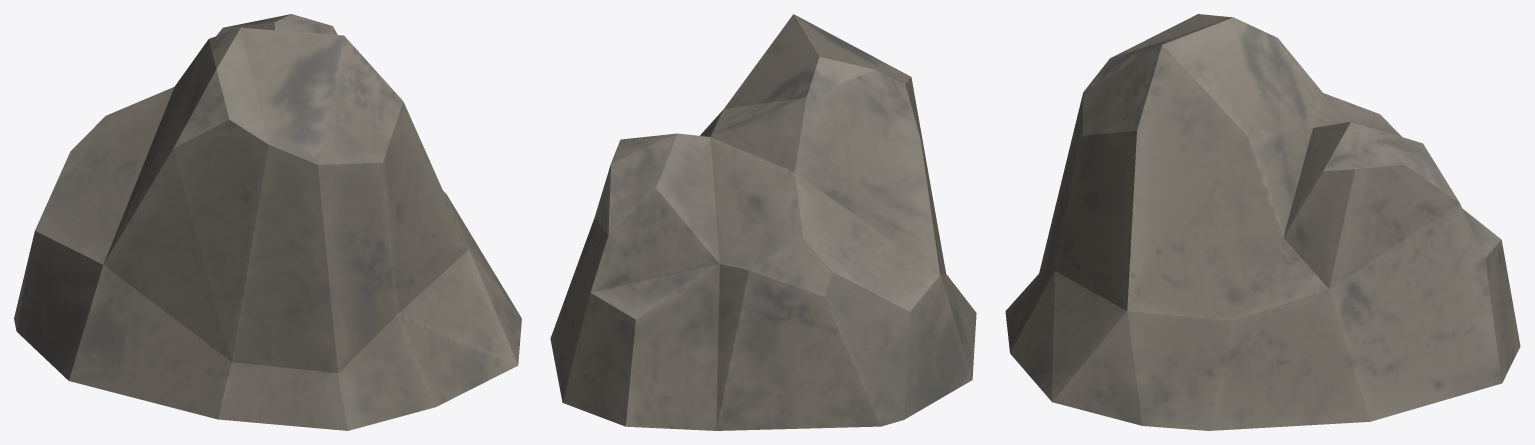
Rendered from Rock_02.fbx.
The picture shows the model from 3 angles, left to right: view 1: azimuth 30°, elevation 25°; view 2: azimuth 150°, elevation 25°; view 3: azimuth 270°, elevation 25°; orthographic projection. The views are drawn at different scales.
Parts seen in each view (by area): view 1: Icosphere.002; view 2: Icosphere.002; view 3: Icosphere.002.
Boxes of the visible parts, x1,y1,x2,y2 form: Icosphere.002: (14, 14, 521, 430); Icosphere.002: (550, 14, 976, 430); Icosphere.002: (1005, 14, 1520, 430).
Bounding box in the file's own units: 169 × 123 × 190.
